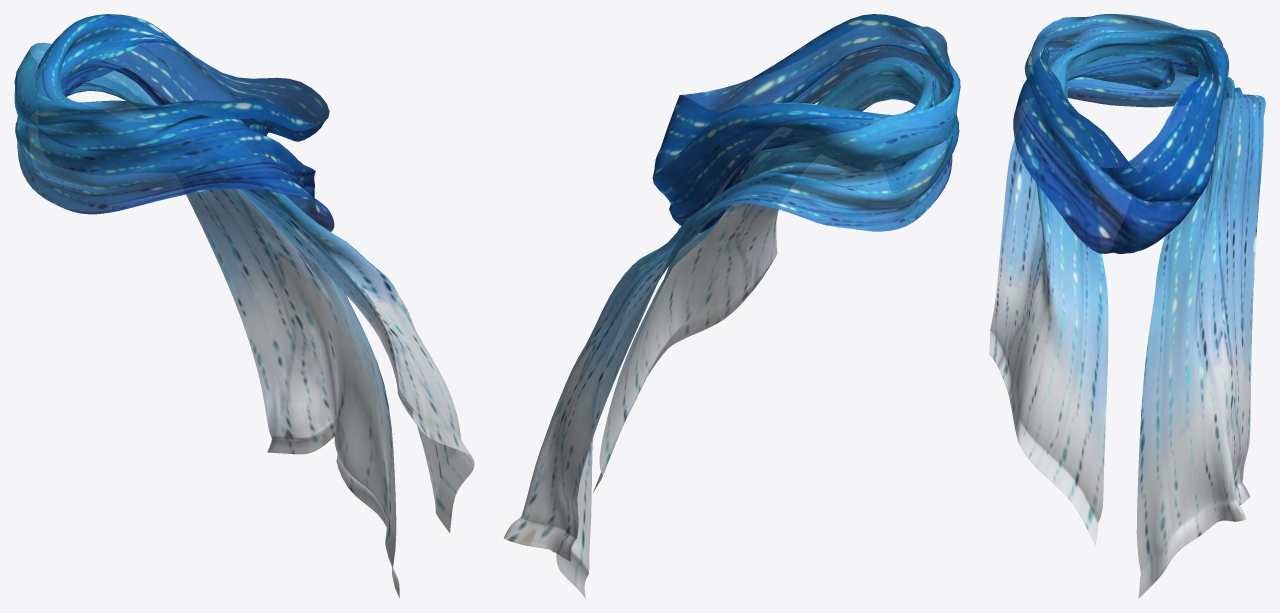
Rendered from scarf.glb.
3 views of the same model, side by side, from view 1: azimuth 30°, elevation 25°; view 2: azimuth 150°, elevation 25°; view 3: azimuth 270°, elevation 25° (orthographic). The views are drawn at different scales.
Parts seen in each view (by area): view 1: Scarf; view 2: Scarf; view 3: Scarf.
Part boxes in pixels (x1,y1,x2,y2): Scarf: [14, 14, 474, 598]; Scarf: [504, 14, 960, 598]; Scarf: [989, 14, 1265, 598].
Size of the model in its own units: 0.4163 by 0.6166 by 0.3341.
1 material, 1 textured.
